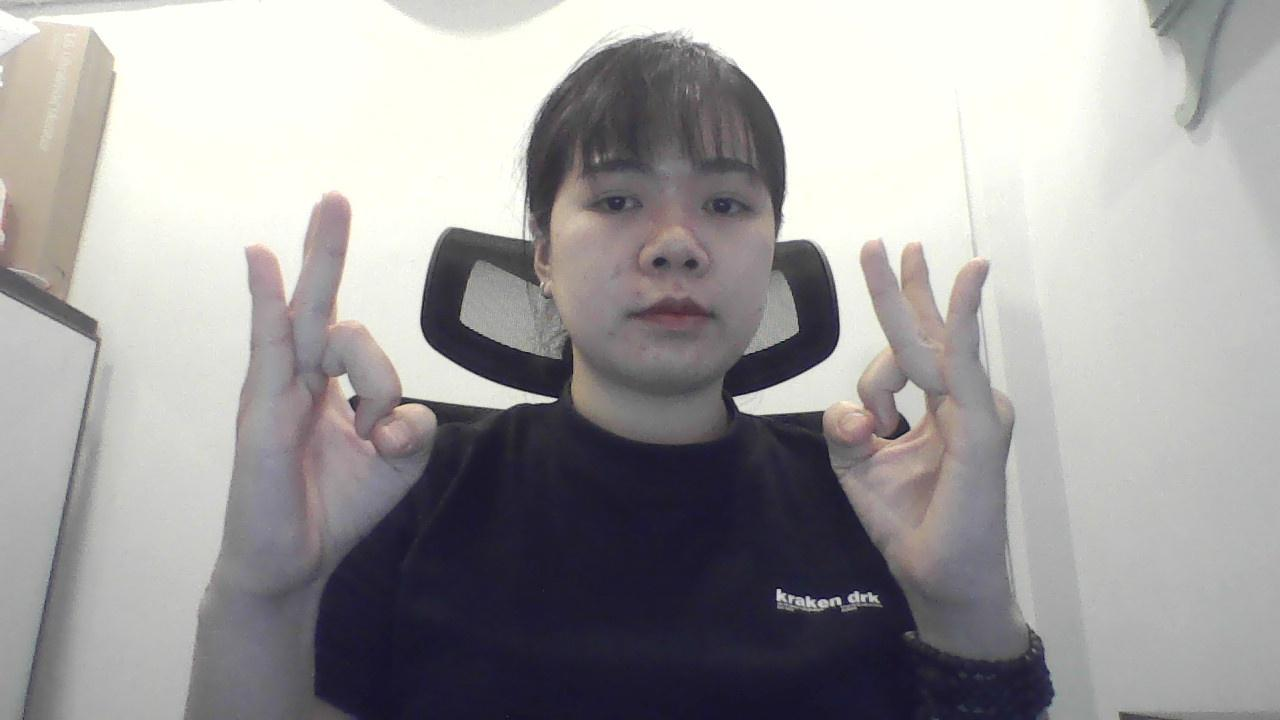H: (207, 178, 440, 636), (837, 220, 1018, 637)
